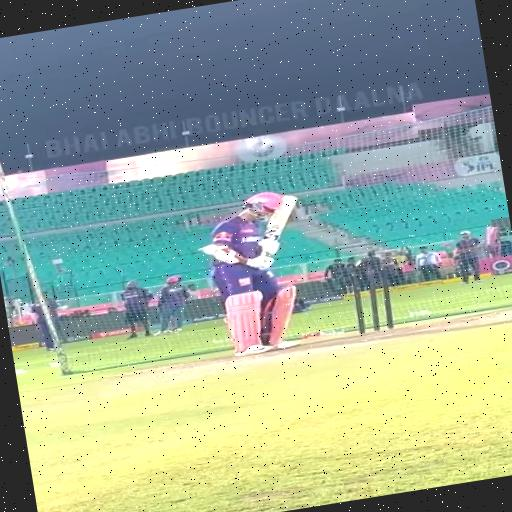Cricket bat: (263, 195, 296, 241)
